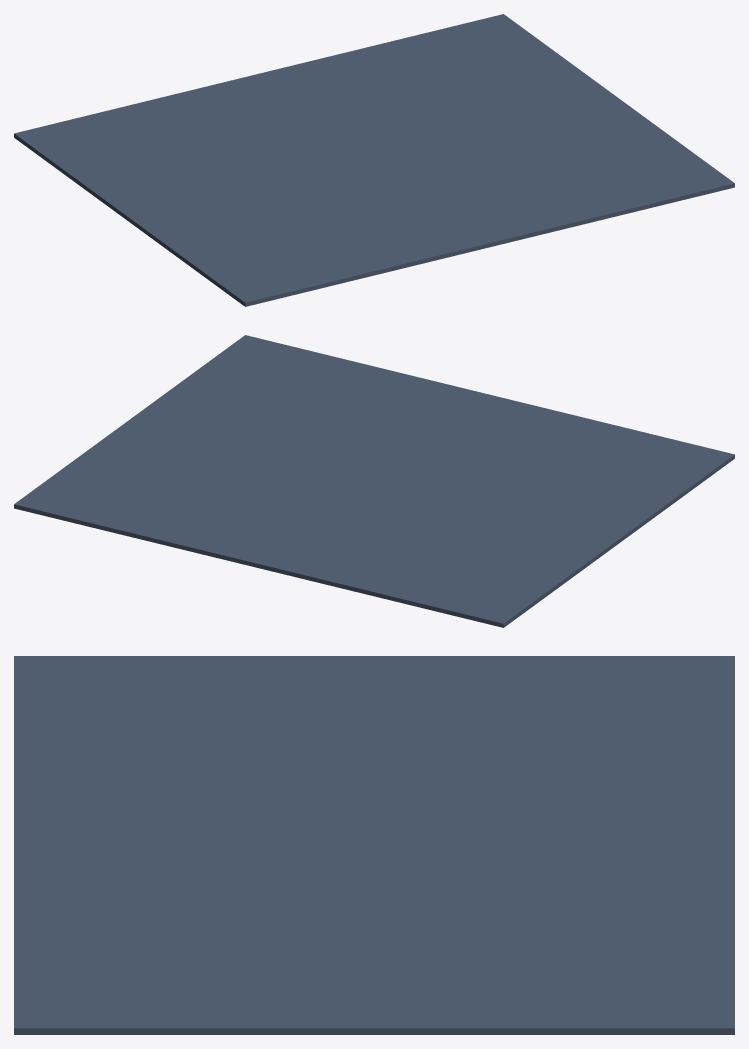
The model's file is floor_001_l_chamber_3_kamera_3_rannyaya_kapsula_floor.obj.
The picture shows the model from 3 angles, top to bottom: view 1: azimuth 30°, elevation 25°; view 2: azimuth 150°, elevation 25°; view 3: azimuth 270°, elevation 25°; orthographic projection. The views are drawn at different scales.
Visible parts, largest first — view 1: Floor_001_l_chamber_3_kamera_3_rannyaya_kapsula_floor; view 2: Floor_001_l_chamber_3_kamera_3_rannyaya_kapsula_floor; view 3: Floor_001_l_chamber_3_kamera_3_rannyaya_kapsula_floor.
Boxes of the visible parts, <box> form: Floor_001_l_chamber_3_kamera_3_rannyaya_kapsula_floor: <box>14,14,734,306</box>; Floor_001_l_chamber_3_kamera_3_rannyaya_kapsula_floor: <box>14,335,734,627</box>; Floor_001_l_chamber_3_kamera_3_rannyaya_kapsula_floor: <box>14,656,734,1034</box>.
Size of the model in its own units: 24.44 by 0.2 by 20.
